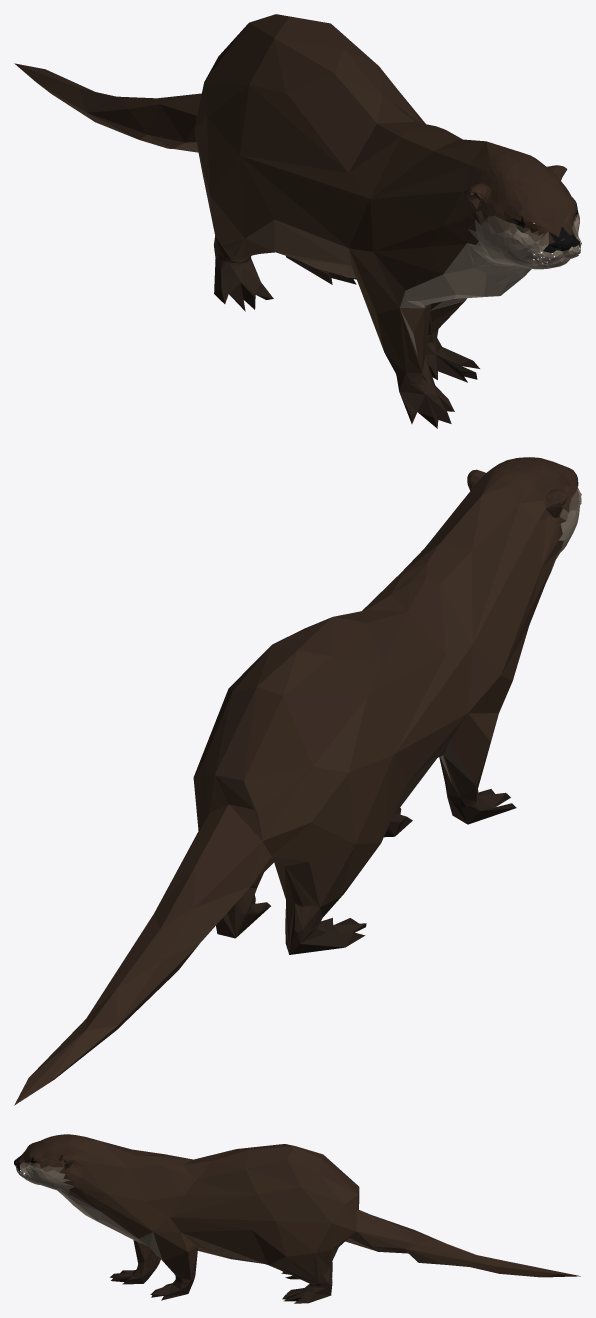
Rendered from otter.glb.
3 views of the same model, one above another, from view 1: azimuth 30°, elevation 25°; view 2: azimuth 150°, elevation 25°; view 3: azimuth 270°, elevation 25° (orthographic). The views are drawn at different scales.
Visible parts, largest first — view 1: lod0; view 2: lod0; view 3: lod0.
Boxes of the visible parts, <box> form: lod0: <box>14,14,581,428</box>; lod0: <box>14,457,581,1105</box>; lod0: <box>14,1134,580,1303</box>.
Size of what is drawn, in the model's own units: 0.1762 by 0.3175 by 1.09.
